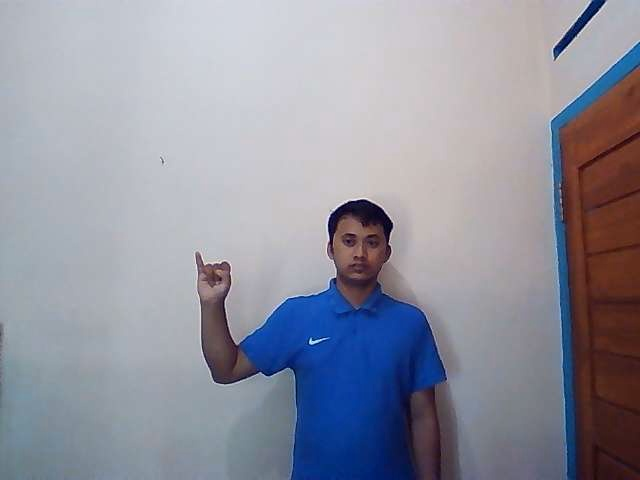I: (194, 251, 233, 305)
